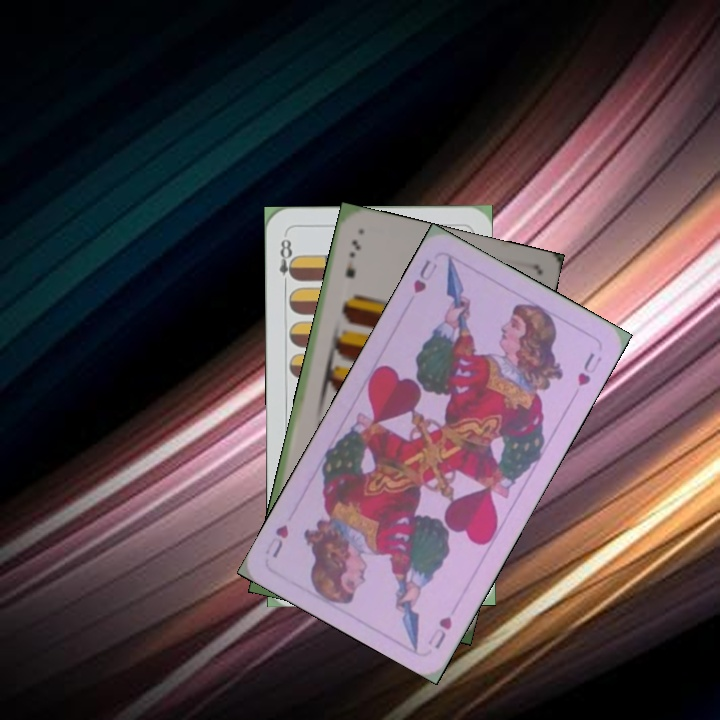E7: (341, 235, 364, 281)
E8: (275, 235, 299, 290)
HU: (409, 255, 441, 296), (423, 612, 455, 651)
